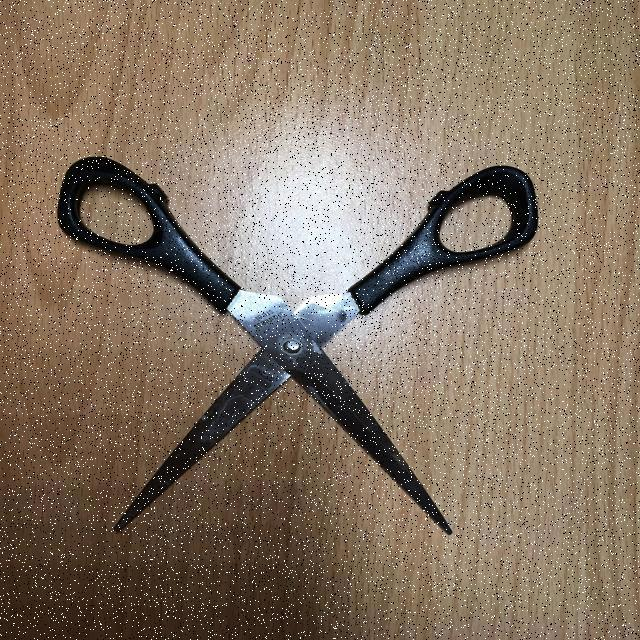scissors: (54, 152, 541, 542)
